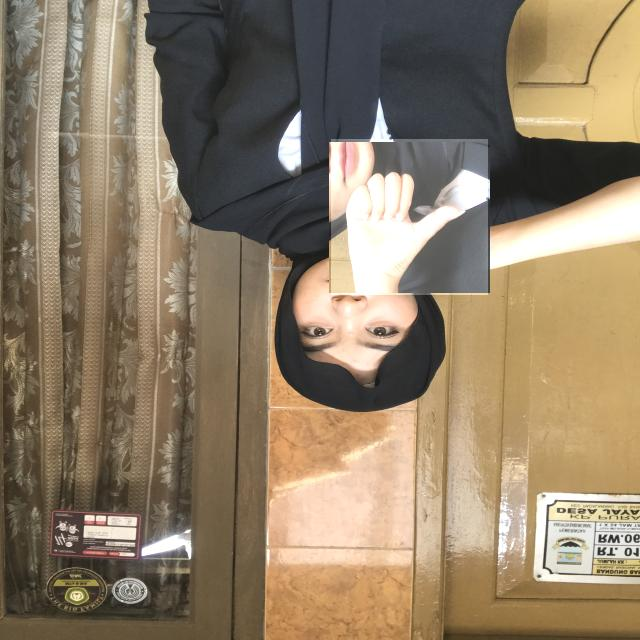sedih: (331, 139, 488, 295)
